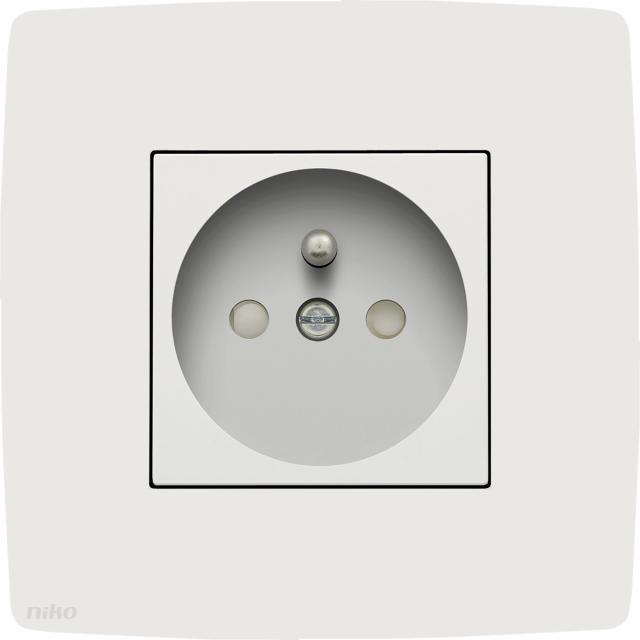typeb: (107, 102, 529, 554)
